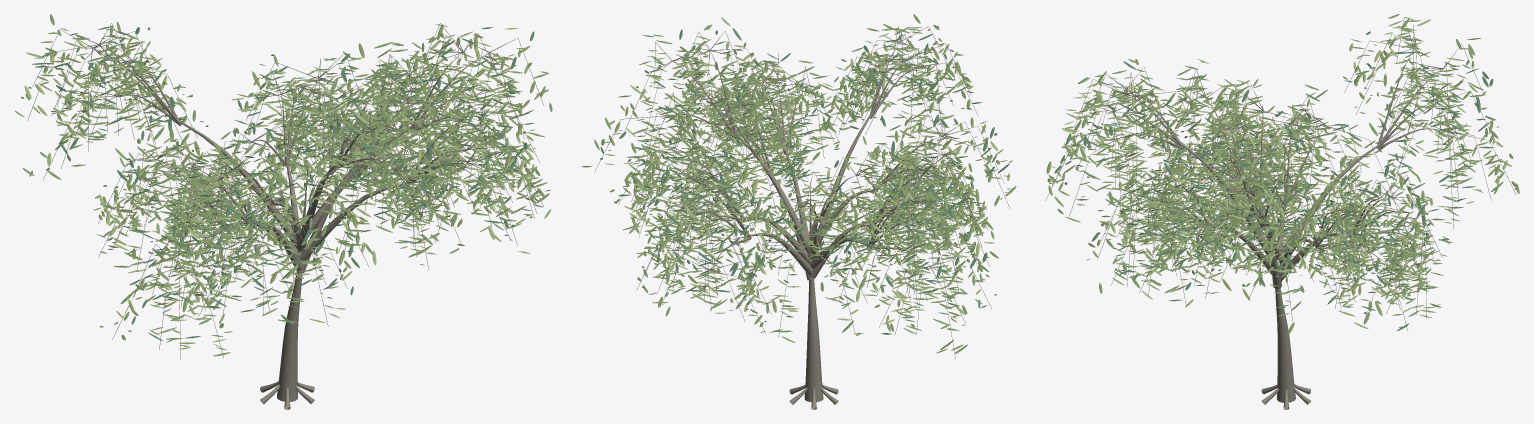
File: tree2c.glb
The picture shows the model from 3 angles, left to right: view 1: azimuth 30°, elevation 25°; view 2: azimuth 150°, elevation 25°; view 3: azimuth 270°, elevation 25°; orthographic projection. The views are drawn at different scales.
Visible parts, largest first — view 1: Tree2c_Leaf, Tree2c_Trunk, Tree2c_LeafLight, Tree2c_LeafDark; view 2: Tree2c_Leaf, Tree2c_Trunk, Tree2c_LeafLight, Tree2c_LeafDark; view 3: Tree2c_Leaf, Tree2c_Trunk, Tree2c_LeafLight, Tree2c_LeafDark.
Boxes of the visible parts, x1,y1,x2,y2 form: Tree2c_Leaf: (15, 14, 552, 356); Tree2c_Trunk: (27, 23, 543, 409); Tree2c_LeafLight: (24, 25, 551, 342); Tree2c_LeafDark: (32, 27, 543, 342); Tree2c_Leaf: (581, 14, 1016, 353); Tree2c_Trunk: (594, 26, 1009, 409); Tree2c_LeafLight: (605, 17, 1009, 332); Tree2c_LeafDark: (600, 26, 1010, 334); Tree2c_Leaf: (1046, 14, 1519, 334); Tree2c_Trunk: (1045, 18, 1516, 409); Tree2c_LeafLight: (1050, 19, 1507, 328); Tree2c_LeafDark: (1054, 31, 1495, 330).
Size of the model in its own units: 12.38 by 9.27 by 12.19.
